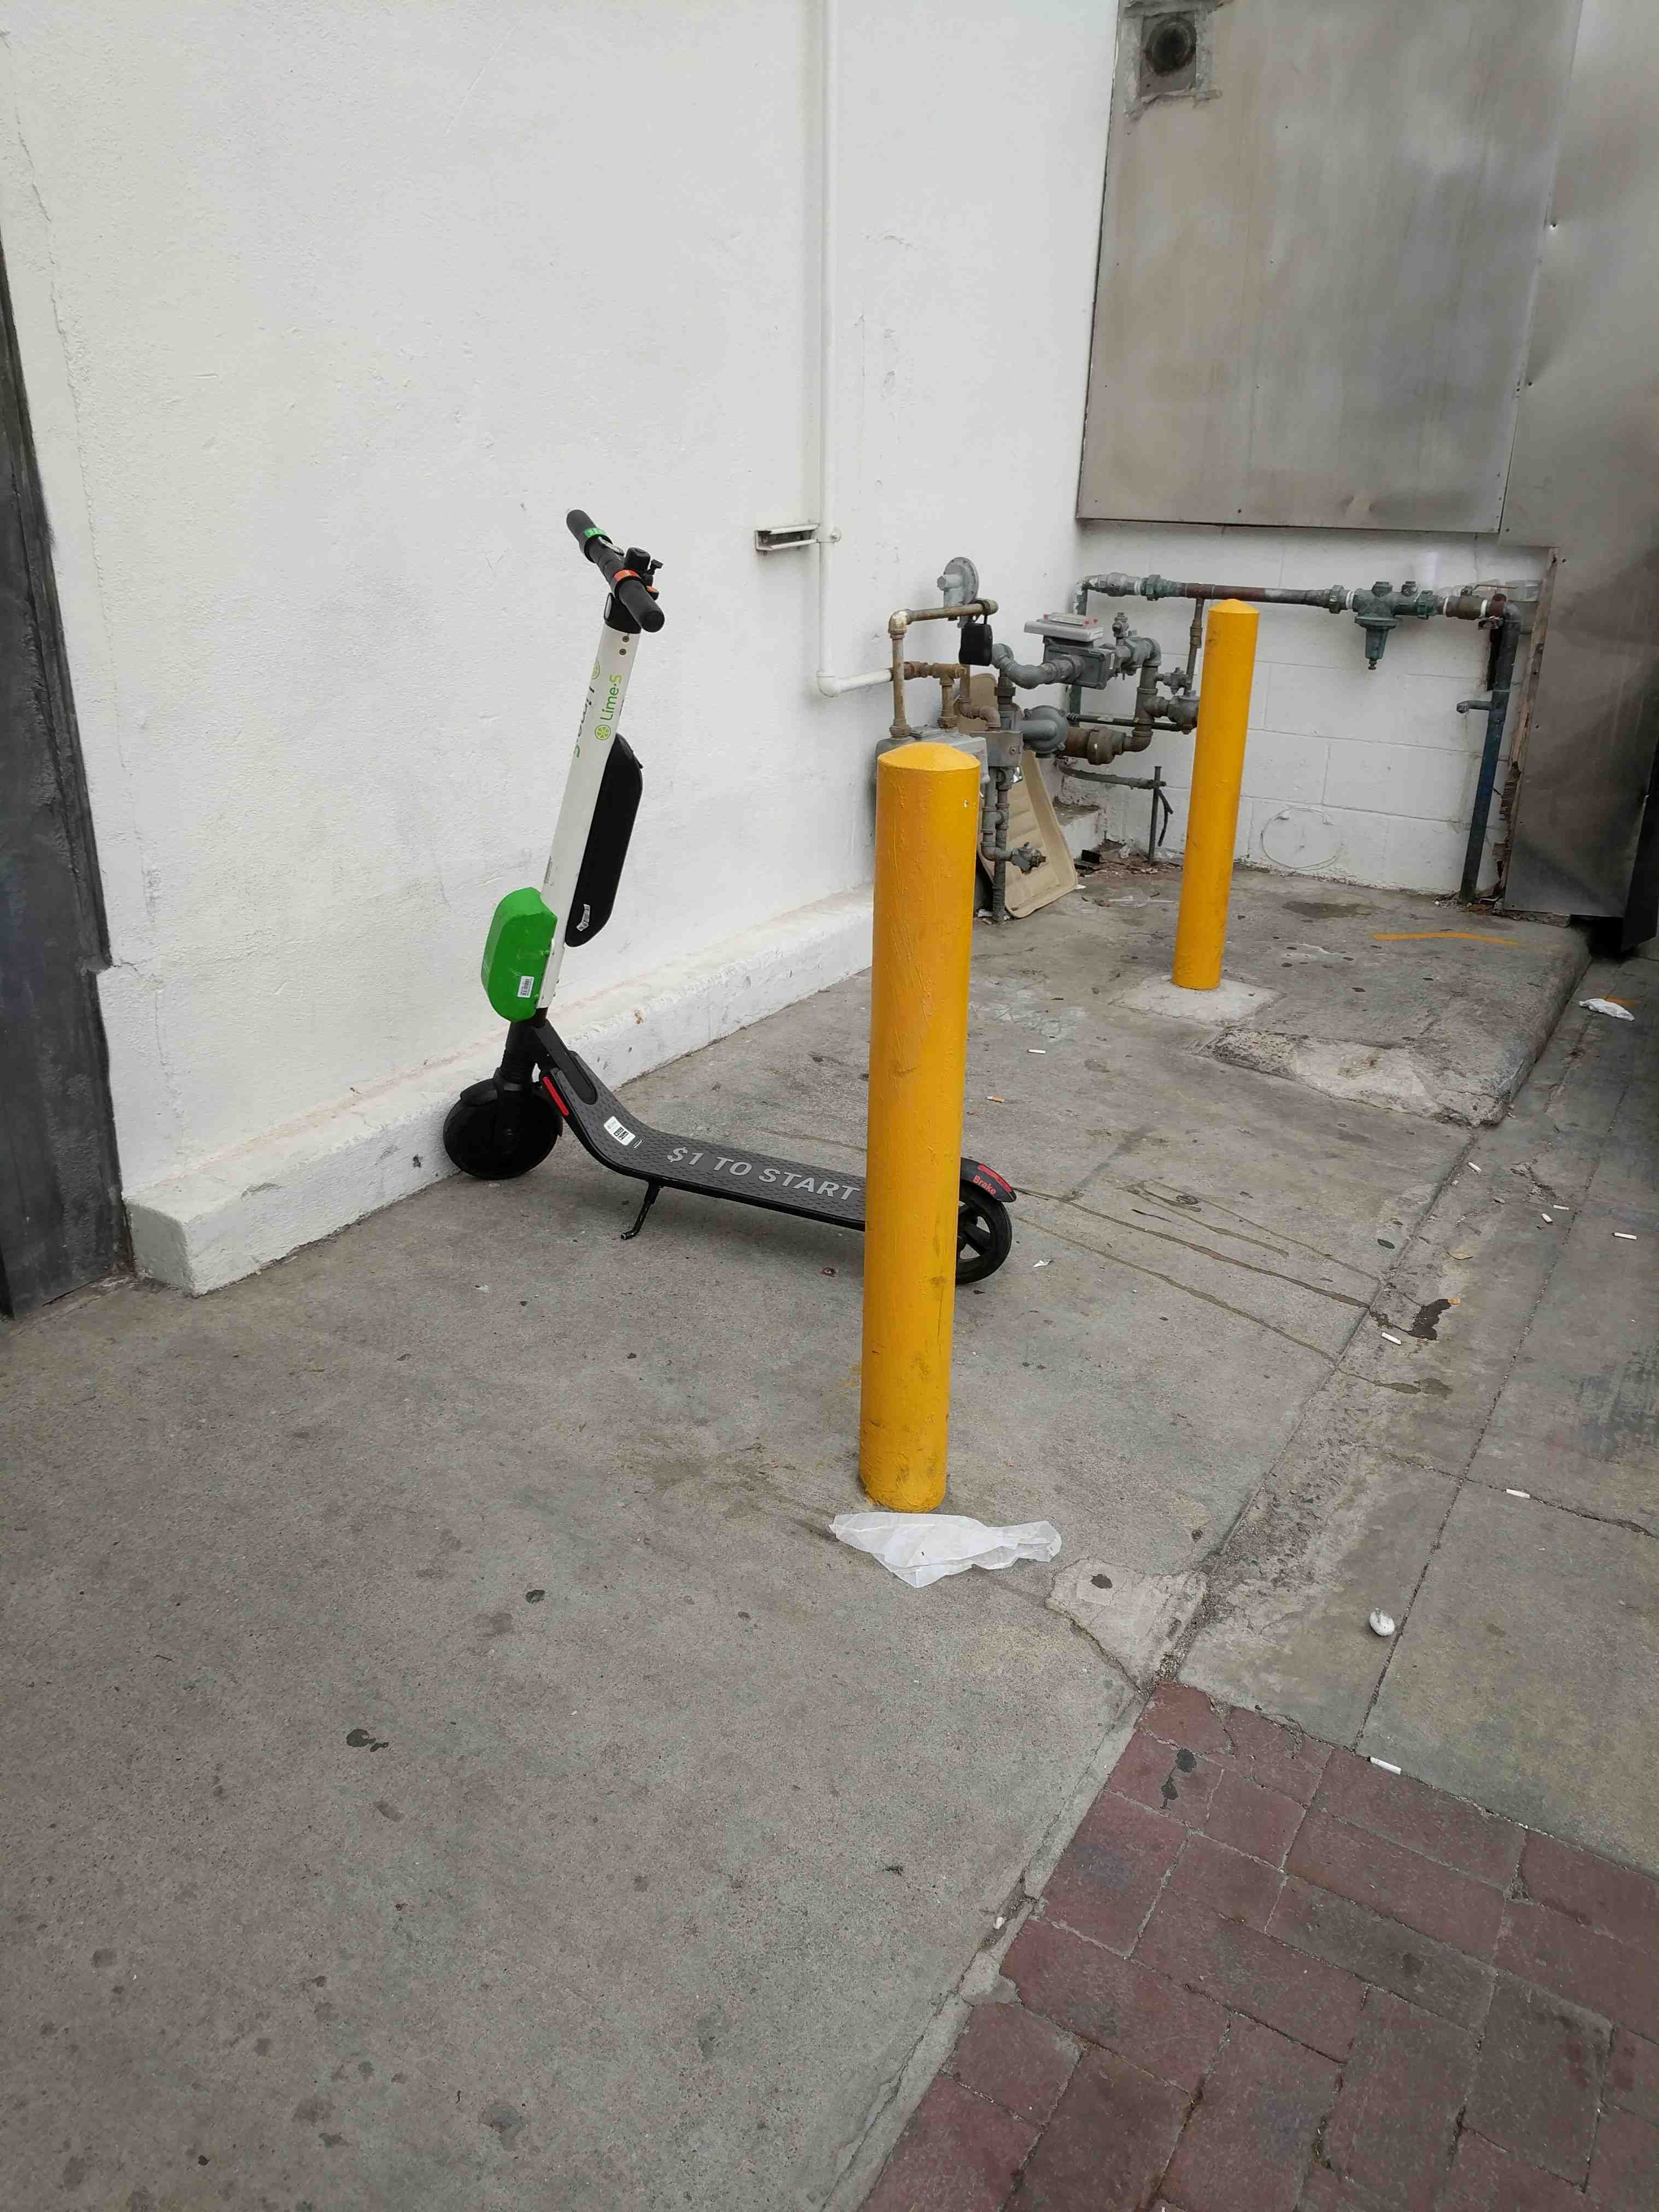scooter: (457, 493, 990, 1306)
